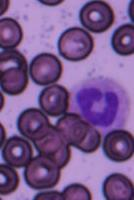N: (68, 75, 131, 136)
